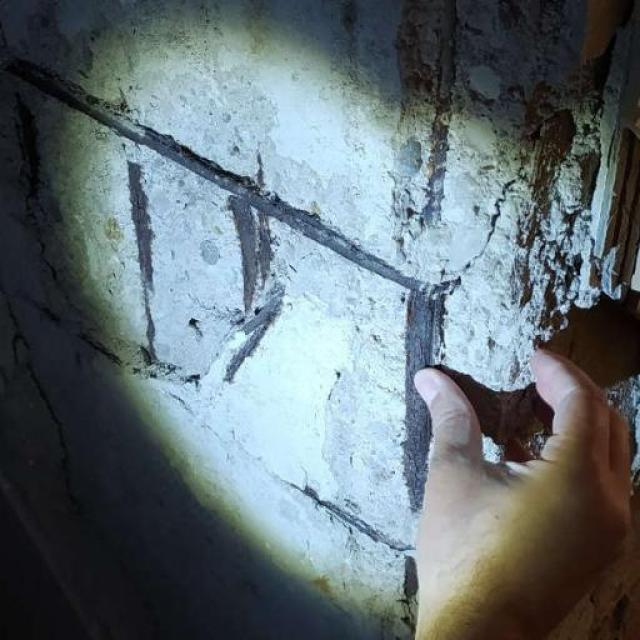D0w0: (0, 1, 639, 612)
